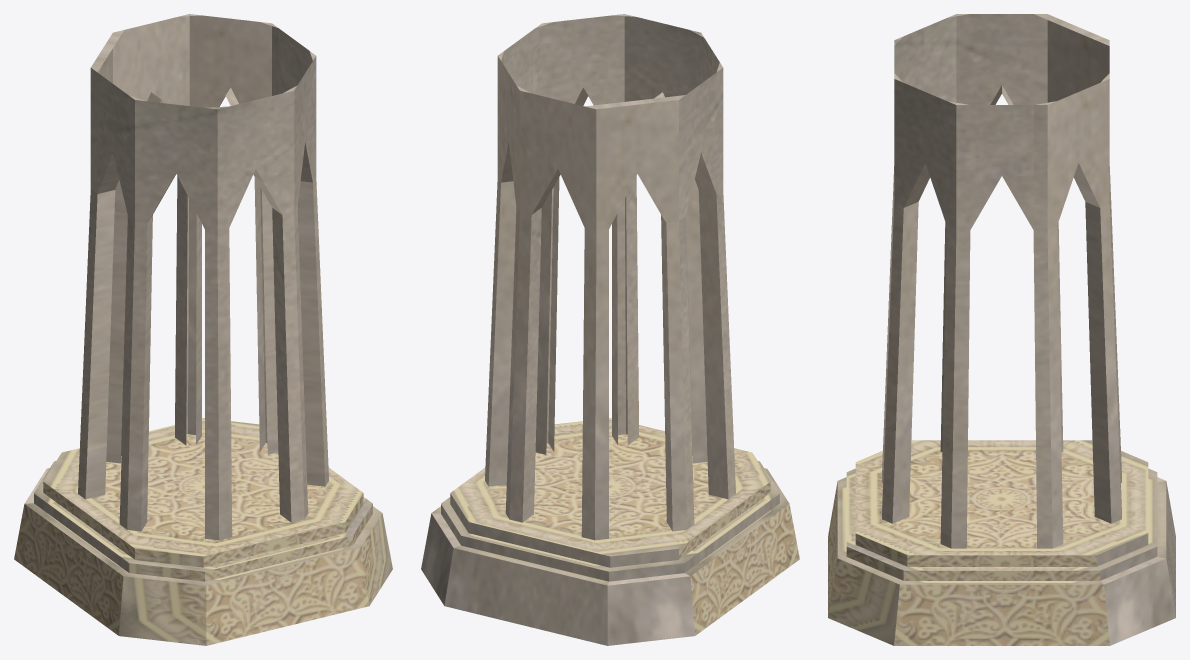
File: cap.FBX
3 views of the same model, side by side, from view 1: azimuth 30°, elevation 25°; view 2: azimuth 150°, elevation 25°; view 3: azimuth 270°, elevation 25° (orthographic). The views are drawn at different scales.
Visible parts, largest first — view 1: Box002; view 2: Box002; view 3: Box002.
Part boxes in pixels (bbox=[...]): Box002: bbox=[14, 14, 392, 645]; Box002: bbox=[421, 14, 799, 645]; Box002: bbox=[828, 14, 1175, 645].
Size of the model in its own units: 18.84 by 33.01 by 20.11.
1 material, 1 textured.
